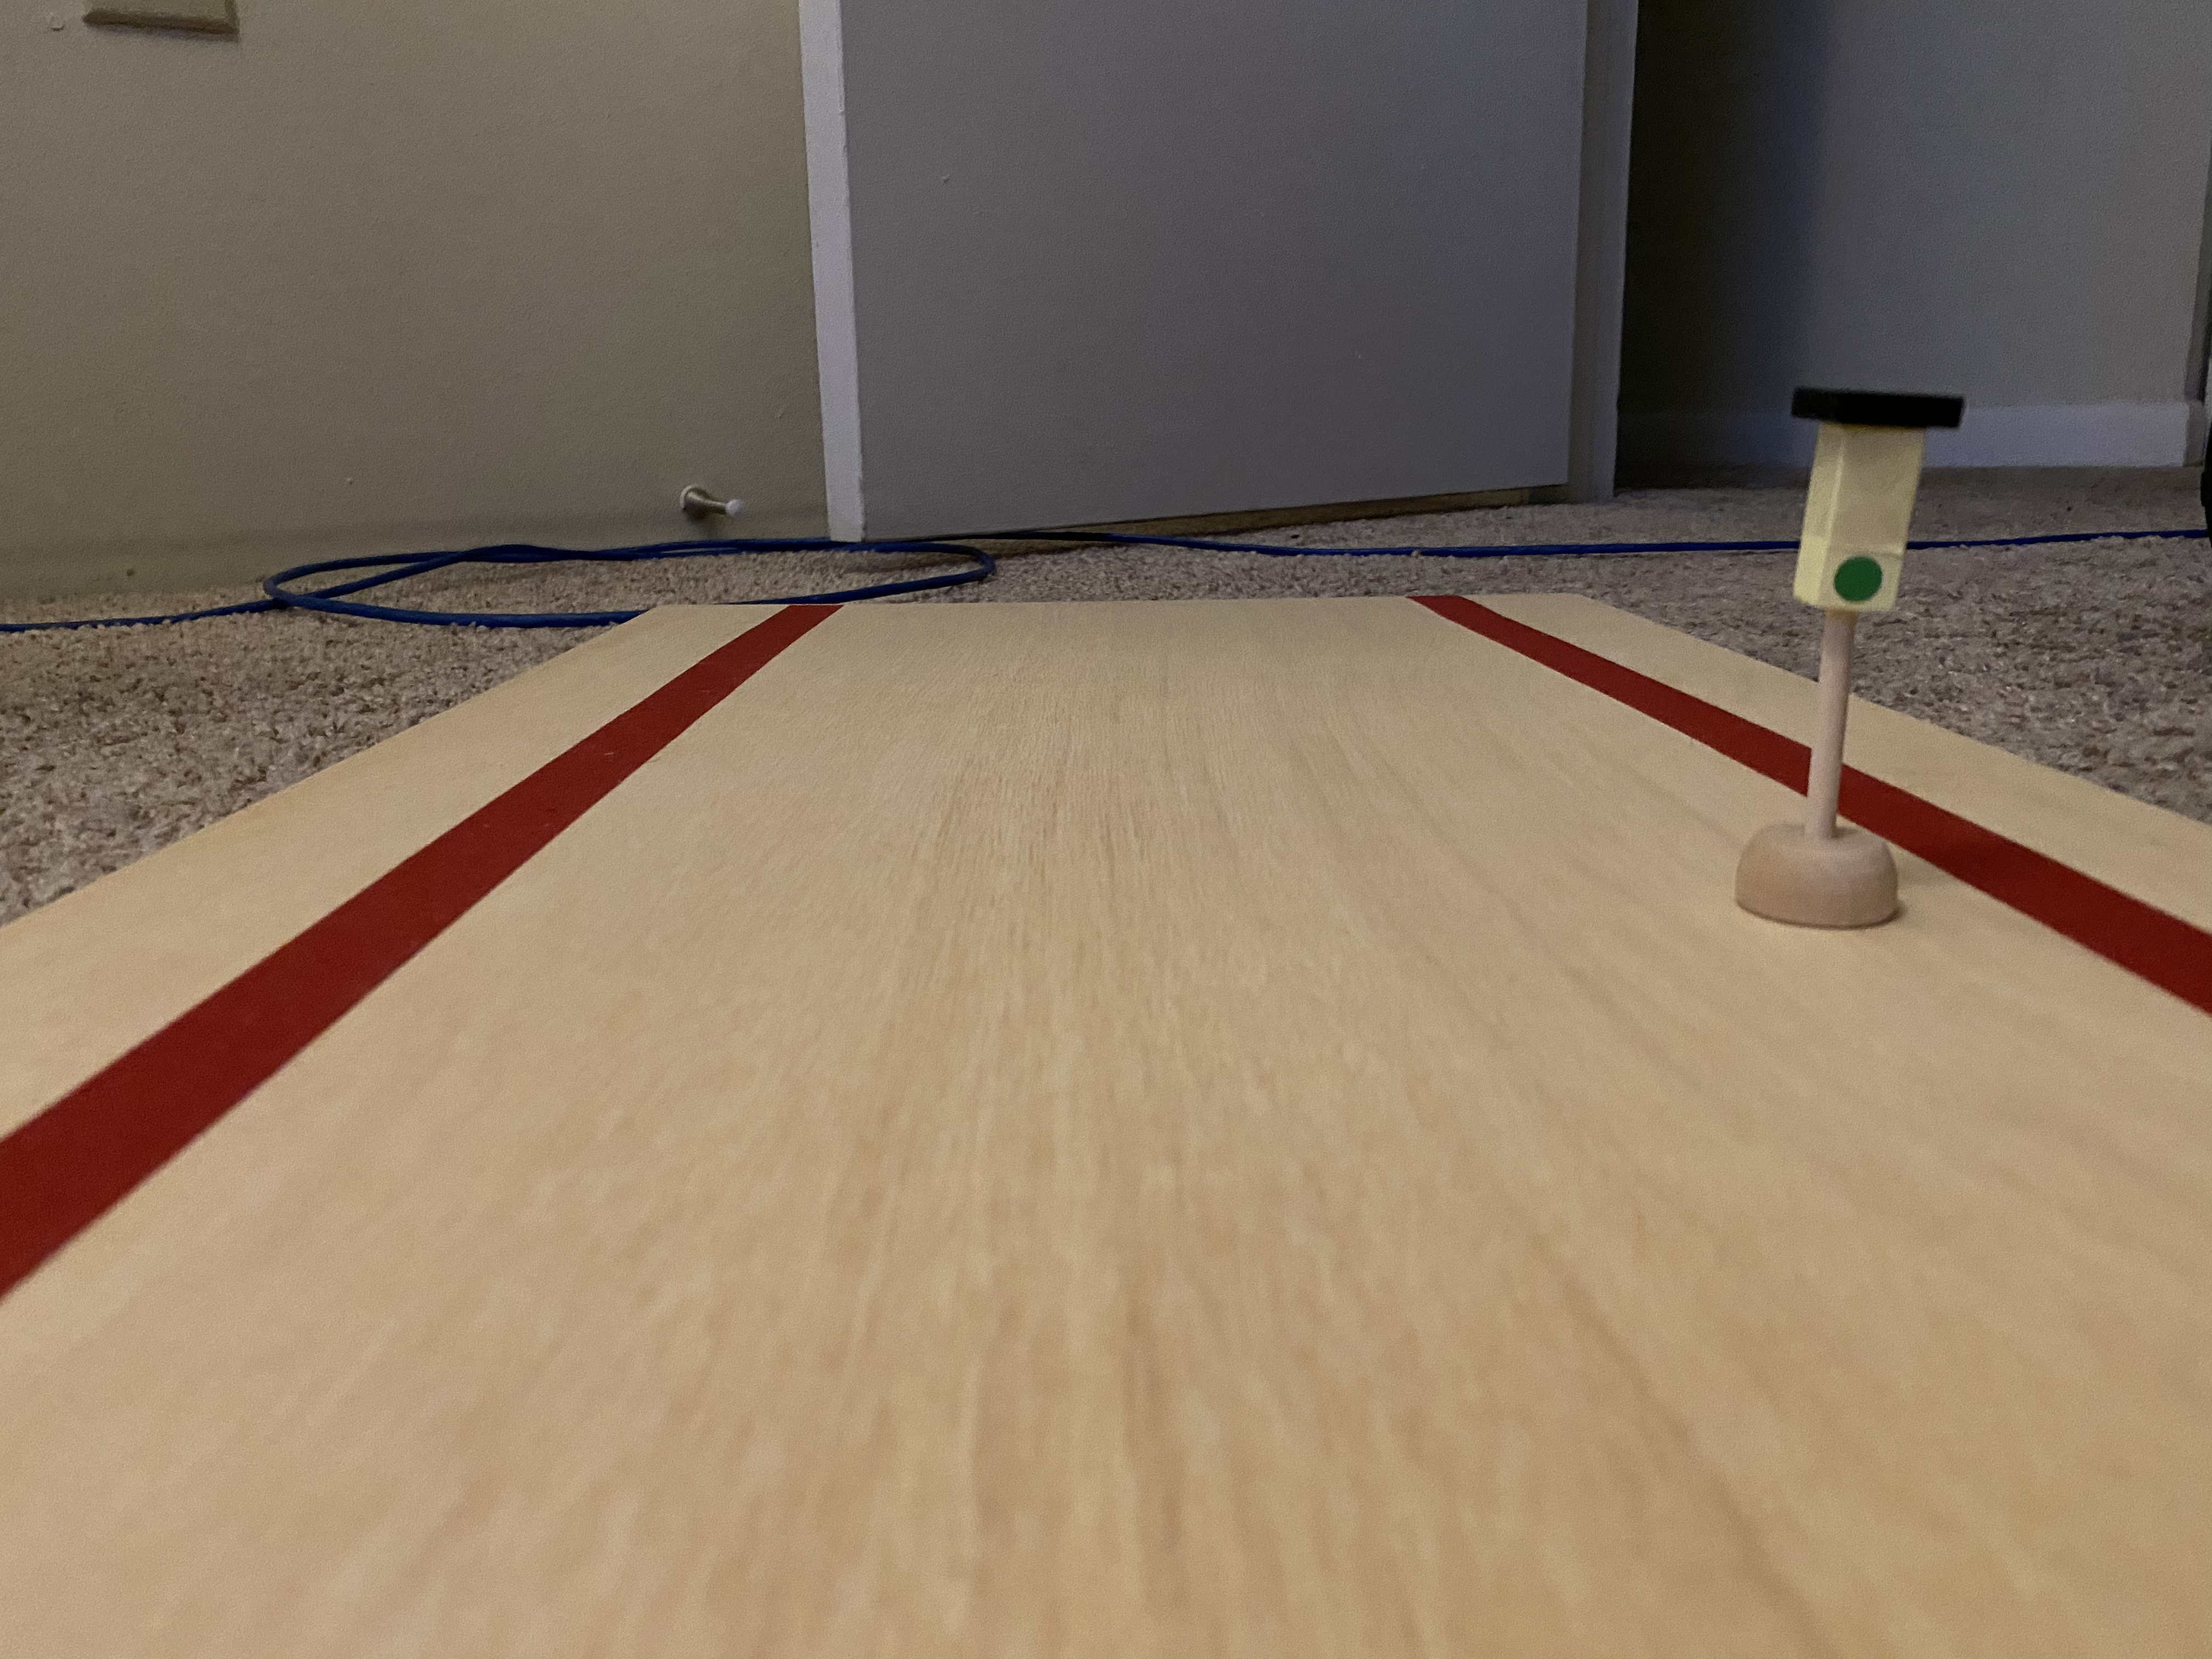Green Traffic Light: (1756, 376, 1984, 633)
